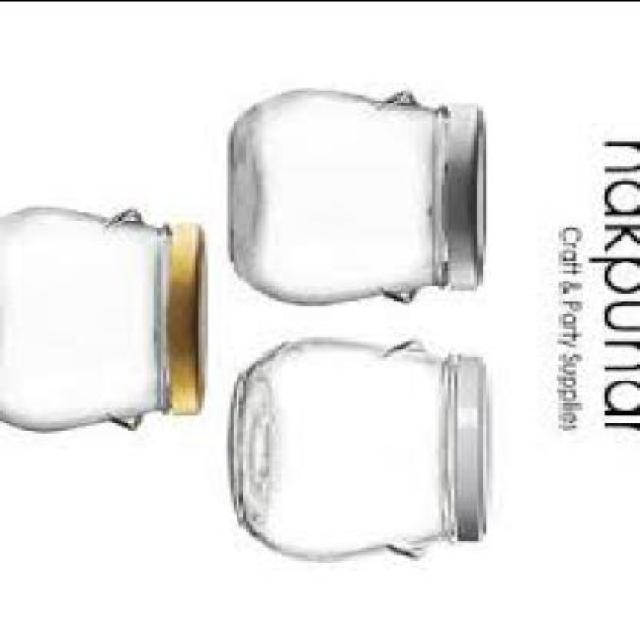GLASS: (233, 332, 458, 557), (233, 87, 449, 302), (3, 206, 175, 432)
METAL: (442, 99, 489, 284), (449, 351, 493, 535), (173, 216, 209, 410)
